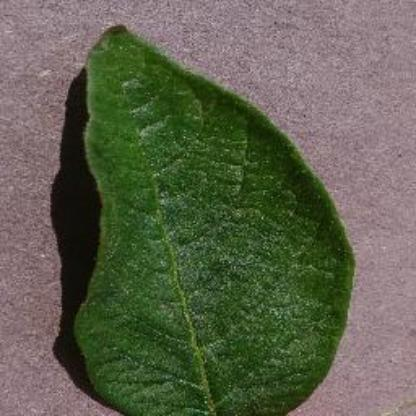Healthy-plant: (56, 12, 366, 416)
